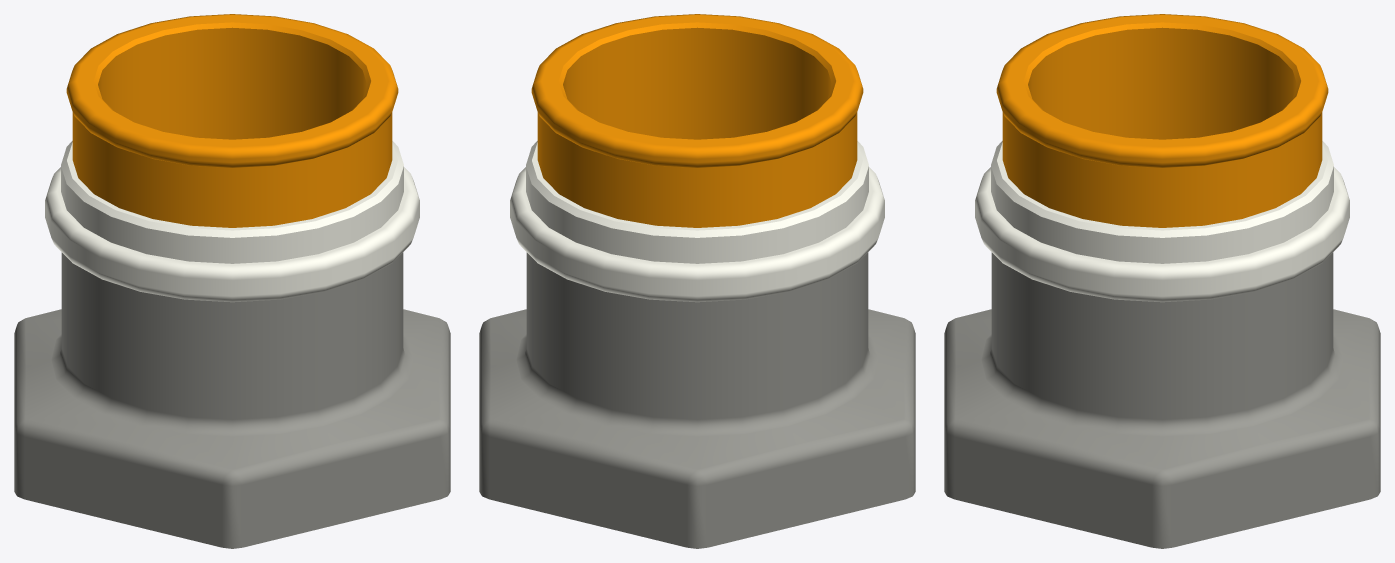
File: Button #4.fbx
3 views of the same model, side by side, from view 1: azimuth 30°, elevation 25°; view 2: azimuth 150°, elevation 25°; view 3: azimuth 270°, elevation 25° (orthographic).
Visible parts, largest first — view 1: kitbash_103; view 2: kitbash_103; view 3: kitbash_103.
Part boxes in pixels (x1,y1,x2,y2): kitbash_103: (14,14,450,548); kitbash_103: (479,14,915,548); kitbash_103: (944,14,1380,548).
Size of the model in its own units: 1.86 by 1.49 by 1.63.
